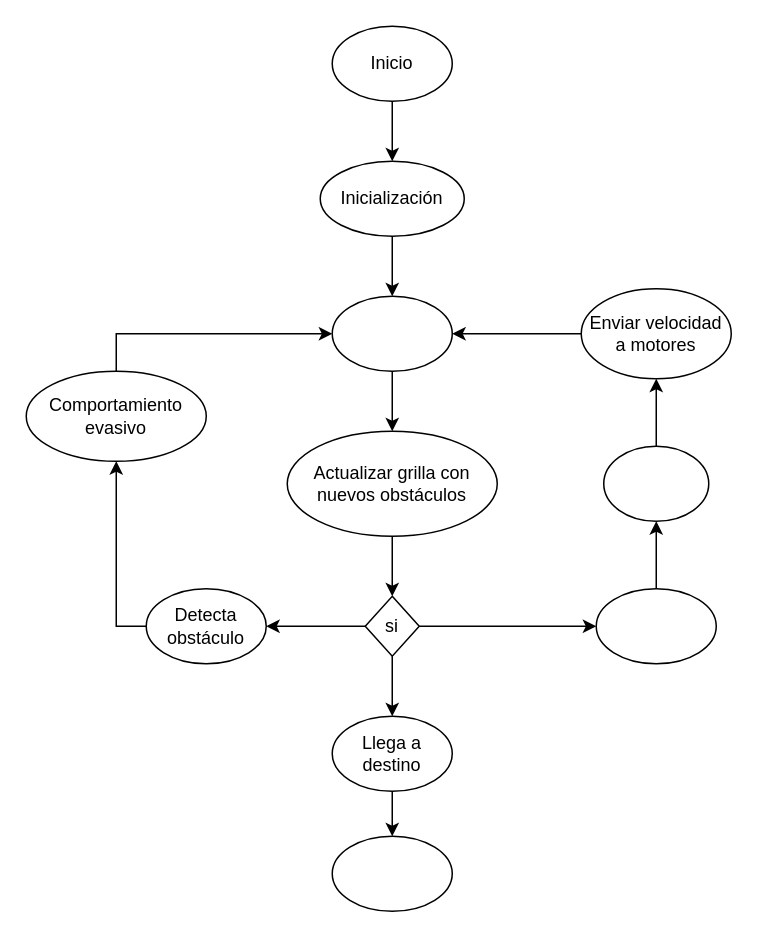
Image size: 758x938. Some labels were removed from this diagram. Each missing label, with the centre of its shape:
"Fin" belongs at point 391,873.
"Leer Sensores" belongs at point 391,333.
"No detecta obstáculo" belongs at point 655,625.
"Planificar con A*" belongs at point 655,483.
